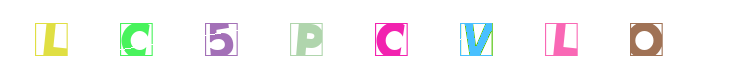5: (182, 0, 262, 80)
C: (140, 0, 220, 80), (336, 0, 416, 80)
L: (12, 0, 92, 80), (436, 0, 516, 80)
O: (606, 0, 686, 80)
P: (280, 0, 360, 80)
V: (428, 0, 508, 80)
